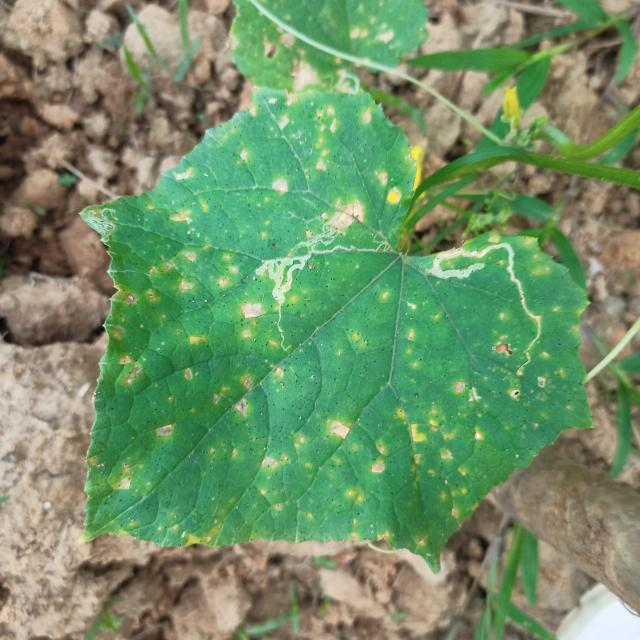disease_cucumber: (103, 100, 533, 549)
